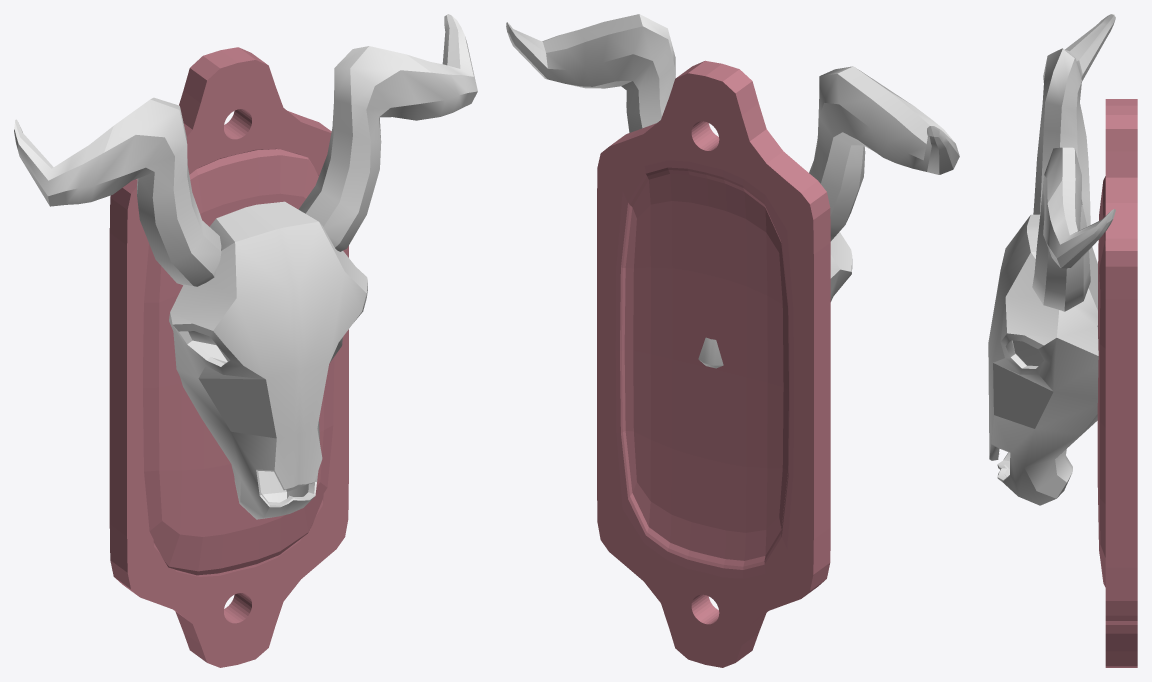
Rendered from WallDecoCowHead.fbx.
3 views of the same model, side by side, from view 1: azimuth 30°, elevation 25°; view 2: azimuth 150°, elevation 25°; view 3: azimuth 270°, elevation 25° (orthographic). The views are drawn at different scales.
Parts seen in each view (by area): view 1: DisplayCase.005, WallMount 01; view 2: WallMount 01, DisplayCase.005; view 3: DisplayCase.005, WallMount 01.
Part boxes in pixels (x1,y1,x2,y2): DisplayCase.005: (14, 14, 477, 519); WallMount 01: (109, 47, 348, 667); WallMount 01: (597, 60, 830, 667); DisplayCase.005: (506, 14, 959, 368); DisplayCase.005: (988, 14, 1115, 505); WallMount 01: (1097, 99, 1137, 667).
Size of the model in its own units: 29.49 by 38.27 by 9.21.
